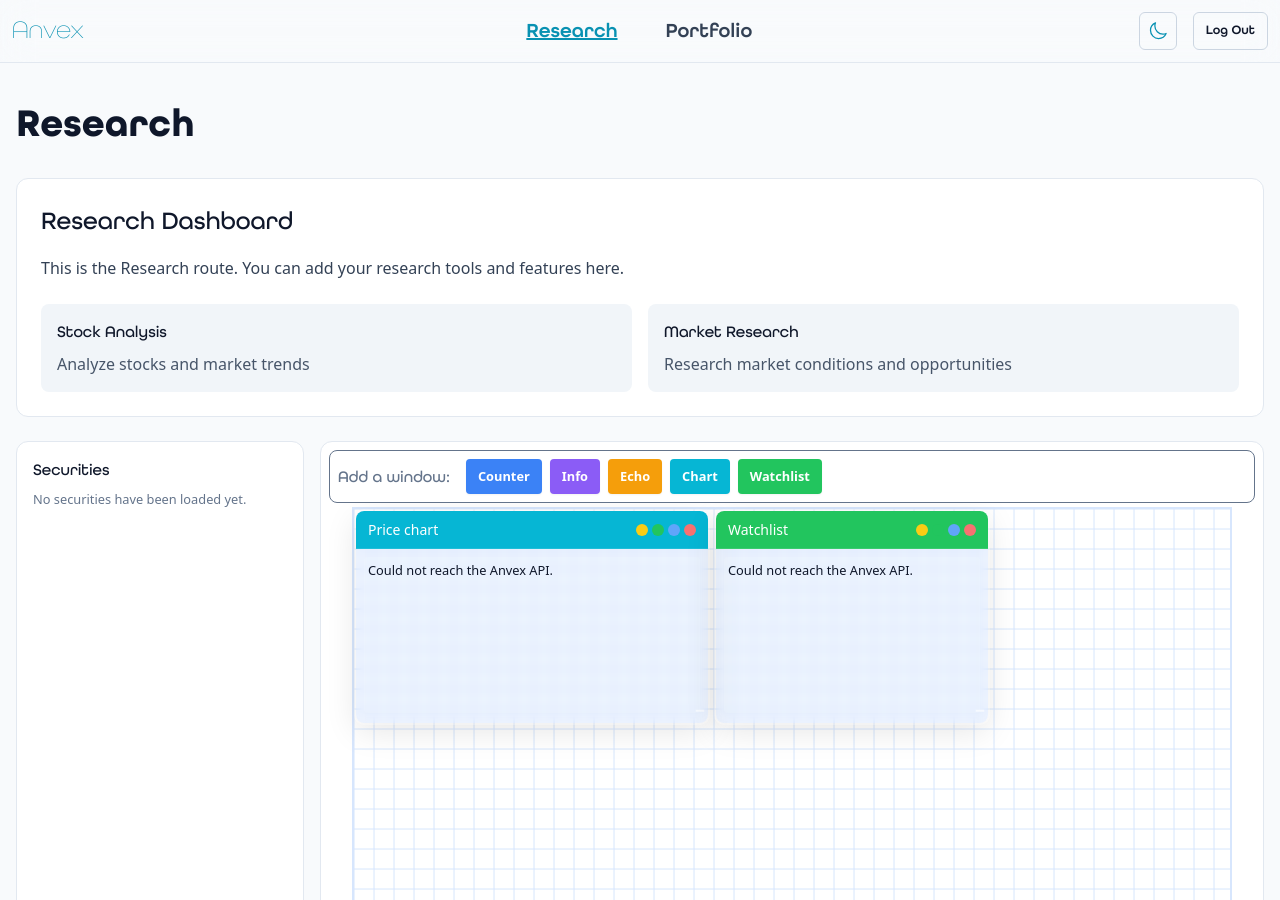
Test case: signing out › lands on a plain /login — no redirect param — and forgets the refresh token
This screenshot has width=1280, height=900.
What coordinates should you click on to do the following:
click the button "Log Out"
I would click on:
 (1230, 31)
Its box is top-left (1193, 12), bottom-right (1268, 50).
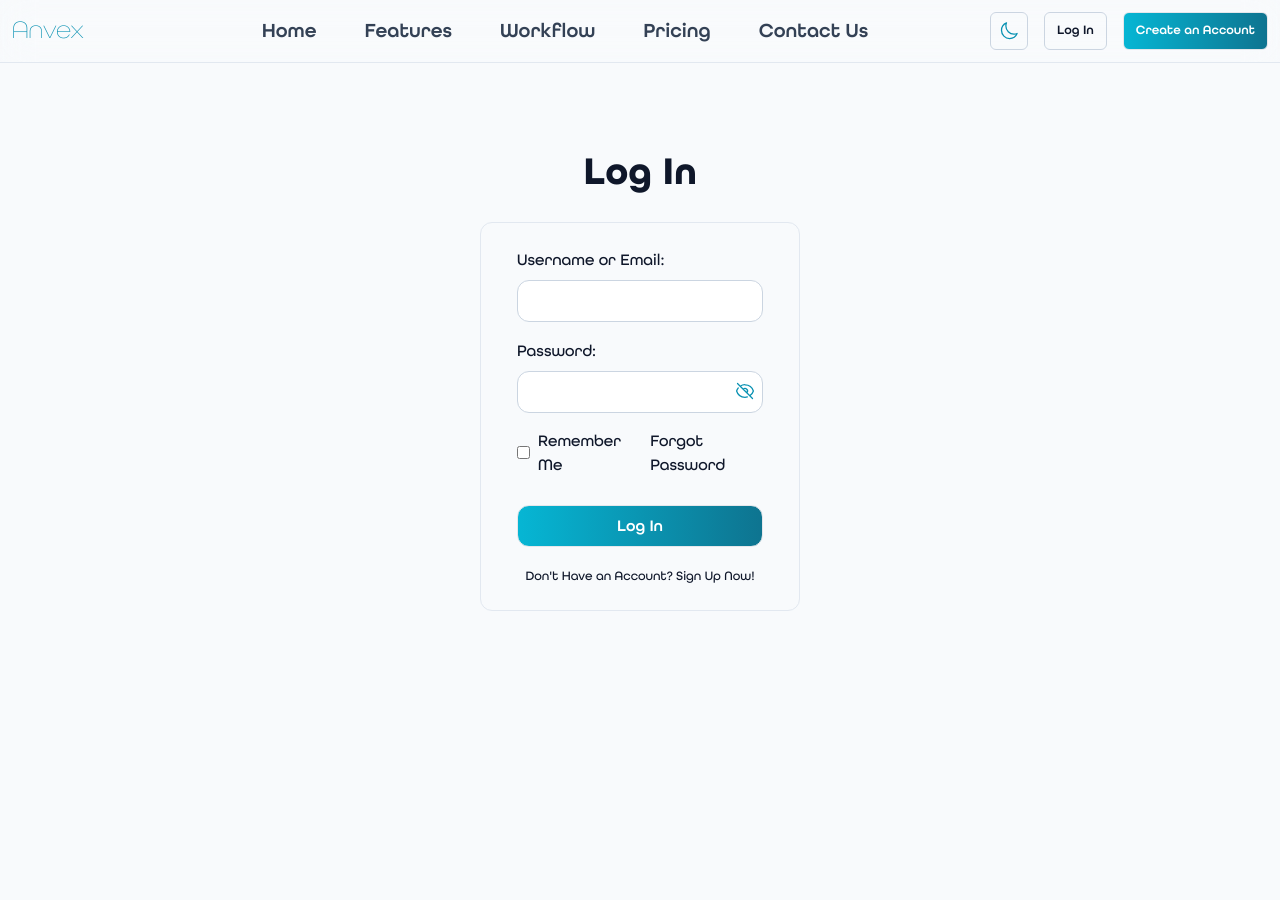
Now the element with test id "route-login" is shown, box top-left (480, 148), bottom-right (800, 611)
